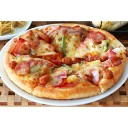pepperonipizza: (10, 26, 125, 94)
